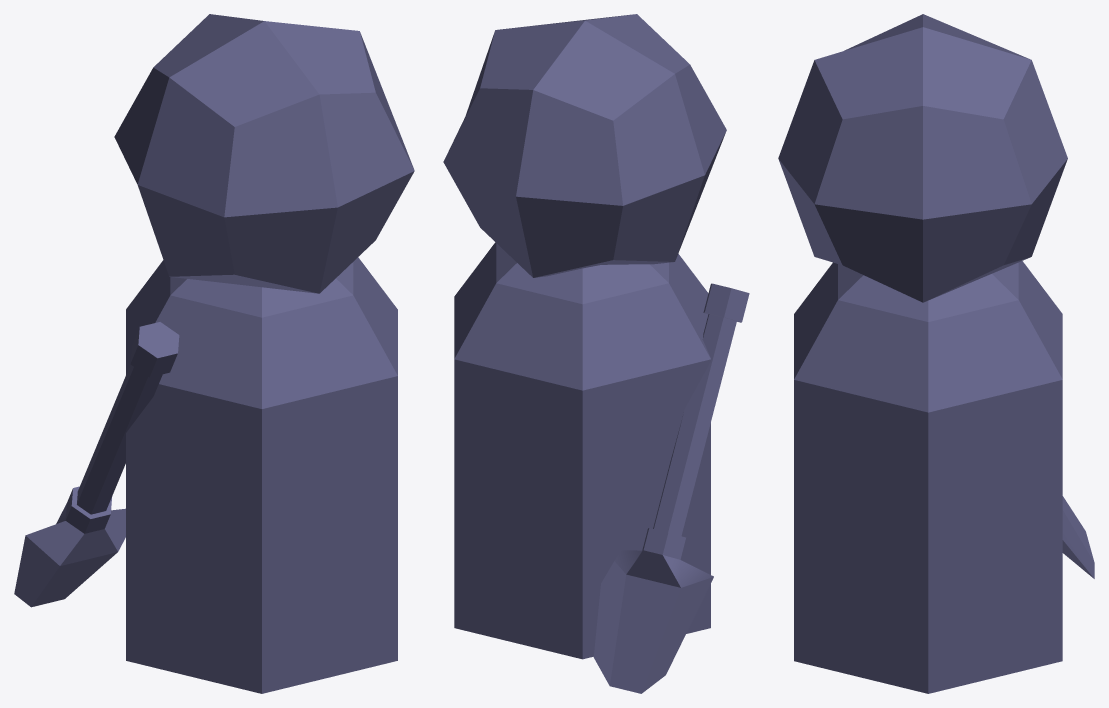
File: SM_gardener.fbx
3 views of the same model, side by side, from view 1: azimuth 30°, elevation 25°; view 2: azimuth 150°, elevation 25°; view 3: azimuth 270°, elevation 25° (orthographic). The views are drawn at different scales.
Visible parts, largest first — view 1: pCube4; view 2: pCube4; view 3: pCube4.
Part boxes in pixels (bbox=[...]): pCube4: bbox=[14, 14, 414, 693]; pCube4: bbox=[443, 14, 749, 693]; pCube4: bbox=[778, 14, 1094, 693].
Size of the model in its own units: 21.72 by 39.35 by 18.6.
